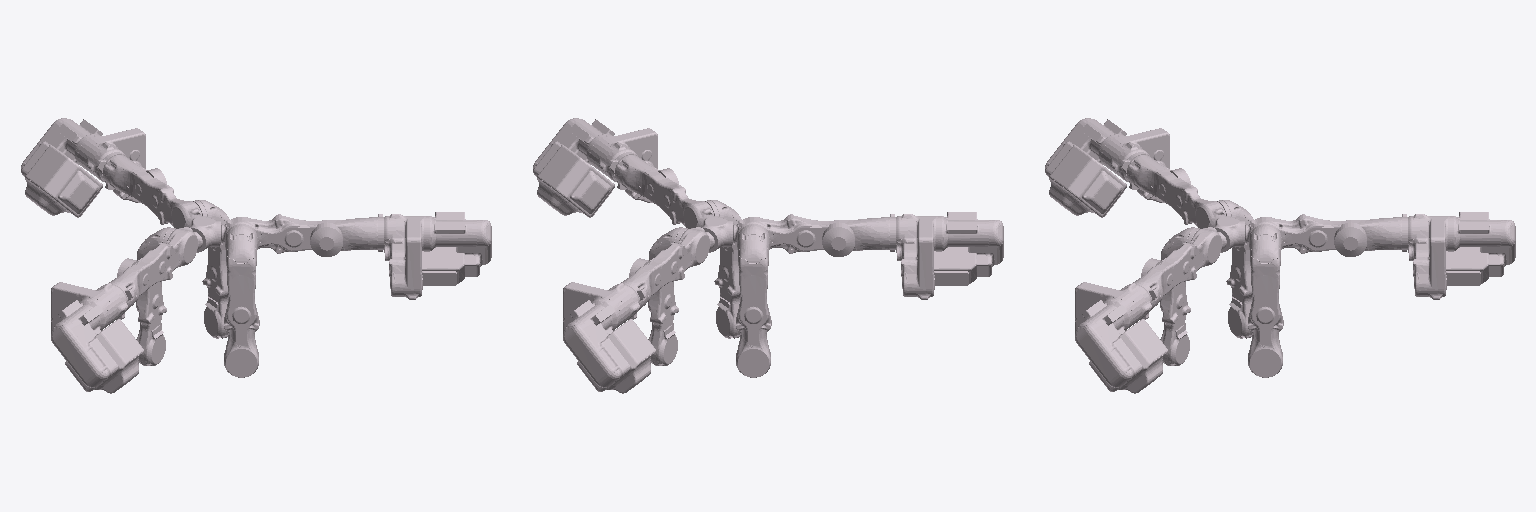
The robot description file, URDF, robot "trifingerpro":
<?xml version="1.0" encoding="utf-8"?>
<!-- =================================================================================== -->
<!-- |    This document was autogenerated by xacro from robot_properties_fingers/xacro/pro/trifingerpro.urdf.xacro | -->
<!-- |    EDITING THIS FILE BY HAND IS NOT RECOMMENDED                                 | -->
<!-- =================================================================================== -->
<robot name="trifingerpro">
  <!--
    Frames are defined such that they all align with the base frame when all
    joints are at position zero.

    In zero-configuration the origins of all joints are in one line.

    In zero-configuration the origin of the base link is exactly above the
    finger tip which should make it easy to place the finger in the world.
    -->
  <material name="finger_0_material">
    <color rgba="0.6 0.0 0.0 1.0"/>
  </material>
  <material name="finger_120_material">
    <color rgba="0.0 0.6 0.0 1.0"/>
  </material>
  <material name="finger_240_material">
    <color rgba="0.0 0.0 0.6 1.0"/>
  </material>
  <material name="real_finger_material">
    <color rgba="0.83 0.79 0.82 1.0"/>
  </material>
  <!-- Define the global base_link and place all other objects relative to it. -->
  <link name="base_link">
    <inertial>
      <origin rpy="0 0 0" xyz="0 0 0"/>
      <mass value="1"/>
      <inertia ixx="4.16666666667e-06" ixy="0" ixz="0" iyy="4.16666666667e-06" iyz="0" izz="4.16666666667e-06"/>
    </inertial>
  </link>
  <!-- Define the upper holder -->
  <link name="upper_holder_link">
    <visual>
      <origin rpy="0 0 0" xyz="0 0 0"/>
      <geometry>
        <mesh filename="package://robot_properties_fingers/meshes/stl/pro/SIM__BL-Finger_Center.stl" scale="1.0 1.0 1.0"/>
      </geometry>
      <material name="real_finger_material"/>
    </visual>
    <inertial>
      <origin rpy="0 0 0" xyz="0 0 0"/>
      <mass value="1"/>
      <inertia ixx="4.16666666667e-06" ixy="0" ixz="0" iyy="4.16666666667e-06" iyz="0" izz="4.16666666667e-06"/>
    </inertial>
  </link>
  <joint name="base_to_upper_holder_joint" type="fixed">
    <parent link="base_link"/>
    <child link="upper_holder_link"/>
    <origin xyz="0 0 0.29"/>
  </joint>
  <!--
        Fixed links for the finger base (parts where the upper link is mounted).
        Note: Link Frames already coincide with the joint location
        -->
  <link name="finger_base_link_0">
    <visual>
      <origin rpy="0 0 0" xyz="0 0.23295 0"/>
      <geometry>
        <mesh filename="package://robot_properties_fingers/meshes/stl/pro/SIM__BL-Finger_Base.stl" scale="1.0 1.0 1.0"/>
      </geometry>
      <material name="real_finger_material"/>
    </visual>
    <collision>
      <origin rpy="0 0 0" xyz="0 0.23295 0"/>
      <geometry>
        <mesh filename="package://robot_properties_fingers/meshes/stl/pro/SIM__BL-Finger_Base.stl" scale="1.0 1.0 1.0"/>
      </geometry>
    </collision>
    <inertial>
      <origin rpy="0 0 0" xyz="0 0 0"/>
      <mass value="1"/>
      <inertia ixx="0.000416666666667" ixy="0" ixz="0" iyy="0.000416666666667" iyz="0" izz="0.000416666666667"/>
    </inertial>
  </link>
  <link name="finger_upper_link_0">
    <visual>
      <origin rpy="0 0 0" xyz="0 0.0235 0"/>
      <geometry>
        <mesh filename="package://robot_properties_fingers/meshes/stl/pro/SIM__BL-Finger_Proximal.stl" scale="1.0 1.0 1.0"/>
      </geometry>
      <material name="real_finger_material"/>
    </visual>
    <collision>
      <origin rpy="0 0 0" xyz="0 0.0235 0"/>
      <geometry>
        <mesh filename="package://robot_properties_fingers/meshes/stl/pro/SIM__BL-Finger_Proximal.stl" scale="1.0 1.0 1.0"/>
      </geometry>
    </collision>
    <inertial>
      <origin rpy="0 0 0" xyz="0 0.06 0"/>
      <mass value="0.26"/>
      <inertia ixx="0.000459333333333" ixy="0" ixz="0" iyy="6.93333333333e-05" iyz="0" izz="0.000459333333333"/>
    </inertial>
  </link>
  <link name="finger_middle_link_0">
    <visual>
      <origin rpy="1.57079632679 0 0" xyz="0 0 0"/>
      <geometry>
        <mesh filename="package://robot_properties_fingers/meshes/stl/pro/SIM__BL-Finger_Intermediate.stl" scale="1.0 1.0 1.0"/>
      </geometry>
      <material name="real_finger_material"/>
    </visual>
    <collision>
      <origin rpy="1.57079632679 0 0" xyz="0 0 0"/>
      <geometry>
        <mesh filename="package://robot_properties_fingers/meshes/stl/pro/SIM__BL-Finger_Intermediate.stl" scale="1.0 1.0 1.0"/>
      </geometry>
    </collision>
    <inertial>
      <origin rpy="0 0 0" xyz="0.028 0 -0.08"/>
      <mass value="0.25"/>
      <inertia ixx="0.000441666666667" ixy="0" ixz="0" iyy="0.000441666666667" iyz="0" izz="6.66666666667e-05"/>
    </inertial>
  </link>
  <link name="finger_lower_link_0">
    <visual>
      <origin rpy="1.57079632679 0 0" xyz="0 0 0"/>
      <geometry>
        <mesh filename="package://robot_properties_fingers/meshes/stl/pro/SIM__BL-Finger_Tip_without_tip.stl" scale="1.0 1.0 1.0"/>
      </geometry>
      <material name="real_finger_material"/>
    </visual>
    <collision>
      <origin rpy="1.57079632679 0 0" xyz="0 0 0"/>
      <geometry>
        <mesh filename="package://robot_properties_fingers/meshes/stl/pro/SIM__BL-Finger_Tip_without_tip.stl" scale="1.0 1.0 1.0"/>
      </geometry>
    </collision>
    <inertial>
      <origin rpy="0 0 0" xyz="0 0 -0.06"/>
      <mass value="0.021"/>
      <inertia ixx="3.5e-05" ixy="0" ixz="0" iyy="3.5e-05" iyz="0" izz="1.4e-06"/>
    </inertial>
  </link>
  <!-- fixed link for finger tip -->
  <link name="finger_tip_link_0">
    <visual>
      <origin rpy="1.57079632679 0 0" xyz="-0.0185 0 0.1626"/>
      <geometry>
        <mesh filename="package://robot_properties_fingers/meshes/stl/pro/SIM__BL-Finger_Tip_actual_tip.stl" scale="1.0 1.0 1.0"/>
      </geometry>
      <material name="real_finger_material"/>
    </visual>
    <collision>
      <origin rpy="1.57079632679 0 0" xyz="-0.0185 0 0.1626"/>
      <geometry>
        <mesh filename="package://robot_properties_fingers/meshes/stl/pro/SIM__BL-Finger_Tip_actual_tip.stl" scale="1.0 1.0 1.0"/>
      </geometry>
    </collision>
    <inertial>
      <origin rpy="0 0 0" xyz="0 0 0"/>
      <mass value="0.031"/>
      <inertia ixx="5.16666666667e-07" ixy="0" ixz="0" iyy="5.16666666667e-07" iyz="0" izz="5.16666666667e-07"/>
    </inertial>
  </link>
  <joint name="finger_lower_to_tip_joint_0" type="fixed">
    <parent link="finger_lower_link_0"/>
    <child link="finger_tip_link_0"/>
    <origin xyz="0.0185 0 -0.1626"/>
  </joint>
  <!-- kinematics -->
  <!-- NOTE: Joint limits are set according to soft limits in the
             configuration of the real robot (i.e. not according to physical
             limits). -->
  <joint name="finger_base_to_upper_joint_0" type="revolute">
    <parent link="finger_base_link_0"/>
    <child link="finger_upper_link_0"/>
    <limit effort="1000" lower="-0.9" upper="1.4" velocity="1000"/>
    <axis xyz="0 1 0"/>
    <origin rpy="0 0 0" xyz="0 0 0"/>
  </joint>
  <joint name="finger_upper_to_middle_joint_0" type="revolute">
    <parent link="finger_upper_link_0"/>
    <child link="finger_middle_link_0"/>
    <limit effort="1000" lower="-1.57" upper="1.57" velocity="1000"/>
    <axis xyz="1 0 0"/>
    <origin rpy="0 0 0" xyz="0.01685 0.0505 0"/>
  </joint>
  <joint name="finger_middle_to_lower_joint_0" type="revolute">
    <parent link="finger_middle_link_0"/>
    <child link="finger_lower_link_0"/>
    <limit effort="1000" lower="-2.7" upper="0.0" velocity="1000"/>
    <axis xyz="1 0 0"/>
    <origin rpy="0 0 0" xyz="0.04922 0 -0.16"/>
  </joint>
  <!--
        Fixed links for the finger base (parts where the upper link is mounted).
        Note: Link Frames already coincide with the joint location
        -->
  <link name="finger_base_link_120">
    <visual>
      <origin rpy="0 0 0" xyz="0 0.23295 0"/>
      <geometry>
        <mesh filename="package://robot_properties_fingers/meshes/stl/pro/SIM__BL-Finger_Base.stl" scale="1.0 1.0 1.0"/>
      </geometry>
      <material name="real_finger_material"/>
    </visual>
    <collision>
      <origin rpy="0 0 0" xyz="0 0.23295 0"/>
      <geometry>
        <mesh filename="package://robot_properties_fingers/meshes/stl/pro/SIM__BL-Finger_Base.stl" scale="1.0 1.0 1.0"/>
      </geometry>
    </collision>
    <inertial>
      <origin rpy="0 0 0" xyz="0 0 0"/>
      <mass value="1"/>
      <inertia ixx="0.000416666666667" ixy="0" ixz="0" iyy="0.000416666666667" iyz="0" izz="0.000416666666667"/>
    </inertial>
  </link>
  <link name="finger_upper_link_120">
    <visual>
      <origin rpy="0 0 0" xyz="0 0.0235 0"/>
      <geometry>
        <mesh filename="package://robot_properties_fingers/meshes/stl/pro/SIM__BL-Finger_Proximal.stl" scale="1.0 1.0 1.0"/>
      </geometry>
      <material name="real_finger_material"/>
    </visual>
    <collision>
      <origin rpy="0 0 0" xyz="0 0.0235 0"/>
      <geometry>
        <mesh filename="package://robot_properties_fingers/meshes/stl/pro/SIM__BL-Finger_Proximal.stl" scale="1.0 1.0 1.0"/>
      </geometry>
    </collision>
    <inertial>
      <origin rpy="0 0 0" xyz="0 0.06 0"/>
      <mass value="0.26"/>
      <inertia ixx="0.000459333333333" ixy="0" ixz="0" iyy="6.93333333333e-05" iyz="0" izz="0.000459333333333"/>
    </inertial>
  </link>
  <link name="finger_middle_link_120">
    <visual>
      <origin rpy="1.57079632679 0 0" xyz="0 0 0"/>
      <geometry>
        <mesh filename="package://robot_properties_fingers/meshes/stl/pro/SIM__BL-Finger_Intermediate.stl" scale="1.0 1.0 1.0"/>
      </geometry>
      <material name="real_finger_material"/>
    </visual>
    <collision>
      <origin rpy="1.57079632679 0 0" xyz="0 0 0"/>
      <geometry>
        <mesh filename="package://robot_properties_fingers/meshes/stl/pro/SIM__BL-Finger_Intermediate.stl" scale="1.0 1.0 1.0"/>
      </geometry>
    </collision>
    <inertial>
      <origin rpy="0 0 0" xyz="0.028 0 -0.08"/>
      <mass value="0.25"/>
      <inertia ixx="0.000441666666667" ixy="0" ixz="0" iyy="0.000441666666667" iyz="0" izz="6.66666666667e-05"/>
    </inertial>
  </link>
  <link name="finger_lower_link_120">
    <visual>
      <origin rpy="1.57079632679 0 0" xyz="0 0 0"/>
      <geometry>
        <mesh filename="package://robot_properties_fingers/meshes/stl/pro/SIM__BL-Finger_Tip_without_tip.stl" scale="1.0 1.0 1.0"/>
      </geometry>
      <material name="real_finger_material"/>
    </visual>
    <collision>
      <origin rpy="1.57079632679 0 0" xyz="0 0 0"/>
      <geometry>
        <mesh filename="package://robot_properties_fingers/meshes/stl/pro/SIM__BL-Finger_Tip_without_tip.stl" scale="1.0 1.0 1.0"/>
      </geometry>
    </collision>
    <inertial>
      <origin rpy="0 0 0" xyz="0 0 -0.06"/>
      <mass value="0.021"/>
      <inertia ixx="3.5e-05" ixy="0" ixz="0" iyy="3.5e-05" iyz="0" izz="1.4e-06"/>
    </inertial>
  </link>
  <!-- fixed link for finger tip -->
  <link name="finger_tip_link_120">
    <visual>
      <origin rpy="1.57079632679 0 0" xyz="-0.0185 0 0.1626"/>
      <geometry>
        <mesh filename="package://robot_properties_fingers/meshes/stl/pro/SIM__BL-Finger_Tip_actual_tip.stl" scale="1.0 1.0 1.0"/>
      </geometry>
      <material name="real_finger_material"/>
    </visual>
    <collision>
      <origin rpy="1.57079632679 0 0" xyz="-0.0185 0 0.1626"/>
      <geometry>
        <mesh filename="package://robot_properties_fingers/meshes/stl/pro/SIM__BL-Finger_Tip_actual_tip.stl" scale="1.0 1.0 1.0"/>
      </geometry>
    </collision>
    <inertial>
      <origin rpy="0 0 0" xyz="0 0 0"/>
      <mass value="0.031"/>
      <inertia ixx="5.16666666667e-07" ixy="0" ixz="0" iyy="5.16666666667e-07" iyz="0" izz="5.16666666667e-07"/>
    </inertial>
  </link>
  <joint name="finger_lower_to_tip_joint_120" type="fixed">
    <parent link="finger_lower_link_120"/>
    <child link="finger_tip_link_120"/>
    <origin xyz="0.0185 0 -0.1626"/>
  </joint>
  <!-- kinematics -->
  <!-- NOTE: Joint limits are set according to soft limits in the
             configuration of the real robot (i.e. not according to physical
             limits). -->
  <joint name="finger_base_to_upper_joint_120" type="revolute">
    <parent link="finger_base_link_120"/>
    <child link="finger_upper_link_120"/>
    <limit effort="1000" lower="-0.9" upper="1.4" velocity="1000"/>
    <axis xyz="0 1 0"/>
    <origin rpy="0 0 0" xyz="0 0 0"/>
  </joint>
  <joint name="finger_upper_to_middle_joint_120" type="revolute">
    <parent link="finger_upper_link_120"/>
    <child link="finger_middle_link_120"/>
    <limit effort="1000" lower="-1.57" upper="1.57" velocity="1000"/>
    <axis xyz="1 0 0"/>
    <origin rpy="0 0 0" xyz="0.01685 0.0505 0"/>
  </joint>
  <joint name="finger_middle_to_lower_joint_120" type="revolute">
    <parent link="finger_middle_link_120"/>
    <child link="finger_lower_link_120"/>
    <limit effort="1000" lower="-2.7" upper="0.0" velocity="1000"/>
    <axis xyz="1 0 0"/>
    <origin rpy="0 0 0" xyz="0.04922 0 -0.16"/>
  </joint>
  <!--
        Fixed links for the finger base (parts where the upper link is mounted).
        Note: Link Frames already coincide with the joint location
        -->
  <link name="finger_base_link_240">
    <visual>
      <origin rpy="0 0 0" xyz="0 0.23295 0"/>
      <geometry>
        <mesh filename="package://robot_properties_fingers/meshes/stl/pro/SIM__BL-Finger_Base.stl" scale="1.0 1.0 1.0"/>
      </geometry>
      <material name="real_finger_material"/>
    </visual>
    <collision>
      <origin rpy="0 0 0" xyz="0 0.23295 0"/>
      <geometry>
        <mesh filename="package://robot_properties_fingers/meshes/stl/pro/SIM__BL-Finger_Base.stl" scale="1.0 1.0 1.0"/>
      </geometry>
    </collision>
    <inertial>
      <origin rpy="0 0 0" xyz="0 0 0"/>
      <mass value="1"/>
      <inertia ixx="0.000416666666667" ixy="0" ixz="0" iyy="0.000416666666667" iyz="0" izz="0.000416666666667"/>
    </inertial>
  </link>
  <link name="finger_upper_link_240">
    <visual>
      <origin rpy="0 0 0" xyz="0 0.0235 0"/>
      <geometry>
        <mesh filename="package://robot_properties_fingers/meshes/stl/pro/SIM__BL-Finger_Proximal.stl" scale="1.0 1.0 1.0"/>
      </geometry>
      <material name="real_finger_material"/>
    </visual>
    <collision>
      <origin rpy="0 0 0" xyz="0 0.0235 0"/>
      <geometry>
        <mesh filename="package://robot_properties_fingers/meshes/stl/pro/SIM__BL-Finger_Proximal.stl" scale="1.0 1.0 1.0"/>
      </geometry>
    </collision>
    <inertial>
      <origin rpy="0 0 0" xyz="0 0.06 0"/>
      <mass value="0.26"/>
      <inertia ixx="0.000459333333333" ixy="0" ixz="0" iyy="6.93333333333e-05" iyz="0" izz="0.000459333333333"/>
    </inertial>
  </link>
  <link name="finger_middle_link_240">
    <visual>
      <origin rpy="1.57079632679 0 0" xyz="0 0 0"/>
      <geometry>
        <mesh filename="package://robot_properties_fingers/meshes/stl/pro/SIM__BL-Finger_Intermediate.stl" scale="1.0 1.0 1.0"/>
      </geometry>
      <material name="real_finger_material"/>
    </visual>
    <collision>
      <origin rpy="1.57079632679 0 0" xyz="0 0 0"/>
      <geometry>
        <mesh filename="package://robot_properties_fingers/meshes/stl/pro/SIM__BL-Finger_Intermediate.stl" scale="1.0 1.0 1.0"/>
      </geometry>
    </collision>
    <inertial>
      <origin rpy="0 0 0" xyz="0.028 0 -0.08"/>
      <mass value="0.25"/>
      <inertia ixx="0.000441666666667" ixy="0" ixz="0" iyy="0.000441666666667" iyz="0" izz="6.66666666667e-05"/>
    </inertial>
  </link>
  <link name="finger_lower_link_240">
    <visual>
      <origin rpy="1.57079632679 0 0" xyz="0 0 0"/>
      <geometry>
        <mesh filename="package://robot_properties_fingers/meshes/stl/pro/SIM__BL-Finger_Tip_without_tip.stl" scale="1.0 1.0 1.0"/>
      </geometry>
      <material name="real_finger_material"/>
    </visual>
    <collision>
      <origin rpy="1.57079632679 0 0" xyz="0 0 0"/>
      <geometry>
        <mesh filename="package://robot_properties_fingers/meshes/stl/pro/SIM__BL-Finger_Tip_without_tip.stl" scale="1.0 1.0 1.0"/>
      </geometry>
    </collision>
    <inertial>
      <origin rpy="0 0 0" xyz="0 0 -0.06"/>
      <mass value="0.021"/>
      <inertia ixx="3.5e-05" ixy="0" ixz="0" iyy="3.5e-05" iyz="0" izz="1.4e-06"/>
    </inertial>
  </link>
  <!-- fixed link for finger tip -->
  <link name="finger_tip_link_240">
    <visual>
      <origin rpy="1.57079632679 0 0" xyz="-0.0185 0 0.1626"/>
      <geometry>
        <mesh filename="package://robot_properties_fingers/meshes/stl/pro/SIM__BL-Finger_Tip_actual_tip.stl" scale="1.0 1.0 1.0"/>
      </geometry>
      <material name="real_finger_material"/>
    </visual>
    <collision>
      <origin rpy="1.57079632679 0 0" xyz="-0.0185 0 0.1626"/>
      <geometry>
        <mesh filename="package://robot_properties_fingers/meshes/stl/pro/SIM__BL-Finger_Tip_actual_tip.stl" scale="1.0 1.0 1.0"/>
      </geometry>
    </collision>
    <inertial>
      <origin rpy="0 0 0" xyz="0 0 0"/>
      <mass value="0.031"/>
      <inertia ixx="5.16666666667e-07" ixy="0" ixz="0" iyy="5.16666666667e-07" iyz="0" izz="5.16666666667e-07"/>
    </inertial>
  </link>
  <joint name="finger_lower_to_tip_joint_240" type="fixed">
    <parent link="finger_lower_link_240"/>
    <child link="finger_tip_link_240"/>
    <origin xyz="0.0185 0 -0.1626"/>
  </joint>
  <!-- kinematics -->
  <!-- NOTE: Joint limits are set according to soft limits in the
             configuration of the real robot (i.e. not according to physical
             limits). -->
  <joint name="finger_base_to_upper_joint_240" type="revolute">
    <parent link="finger_base_link_240"/>
    <child link="finger_upper_link_240"/>
    <limit effort="1000" lower="-0.9" upper="1.4" velocity="1000"/>
    <axis xyz="0 1 0"/>
    <origin rpy="0 0 0" xyz="0 0 0"/>
  </joint>
  <joint name="finger_upper_to_middle_joint_240" type="revolute">
    <parent link="finger_upper_link_240"/>
    <child link="finger_middle_link_240"/>
    <limit effort="1000" lower="-1.57" upper="1.57" velocity="1000"/>
    <axis xyz="1 0 0"/>
    <origin rpy="0 0 0" xyz="0.01685 0.0505 0"/>
  </joint>
  <joint name="finger_middle_to_lower_joint_240" type="revolute">
    <parent link="finger_middle_link_240"/>
    <child link="finger_lower_link_240"/>
    <limit effort="1000" lower="-2.7" upper="0.0" velocity="1000"/>
    <axis xyz="1 0 0"/>
    <origin rpy="0 0 0" xyz="0.04922 0 -0.16"/>
  </joint>
  <joint name="holder_to_finger_0" type="fixed">
    <parent link="upper_holder_link"/>
    <child link="finger_base_link_0"/>
    <origin rpy="0 0 0.0" xyz="0 0 0"/>
  </joint>
  <joint name="holder_to_finger_120" type="fixed">
    <parent link="upper_holder_link"/>
    <child link="finger_base_link_120"/>
    <origin rpy="0 0 -2.09439510239" xyz="0 0 0"/>
  </joint>
  <joint name="holder_to_finger_240" type="fixed">
    <parent link="upper_holder_link"/>
    <child link="finger_base_link_240"/>
    <origin rpy="0 0 -4.18879020479" xyz="0 0 0"/>
  </joint>
</robot>

--- Render facts (derived) ---
3 views of the same robot in one strip: view 1: azimuth 30°, elevation 25°; view 2: azimuth 150°, elevation 25°; view 3: azimuth 270°, elevation 25° (orthographic).
Robot: trifingerpro — 17 links, 16 joints (9 revolute, 7 fixed); root link base_link; default pose: every joint at zero.
Links seen in each view (by area): view 1: finger_base_link_240, finger_base_link_120, finger_base_link_0, finger_middle_link_120, finger_upper_link_120, finger_upper_link_0, finger_upper_link_240, finger_middle_link_240, finger_middle_link_0, upper_holder_link; view 2: finger_base_link_0, finger_base_link_240, finger_base_link_120, finger_middle_link_240, finger_upper_link_240, finger_upper_link_120, finger_upper_link_0, finger_middle_link_0, finger_middle_link_120, upper_holder_link; view 3: finger_base_link_120, finger_base_link_0, finger_base_link_240, finger_middle_link_0, finger_upper_link_0, finger_upper_link_240, finger_upper_link_120, finger_middle_link_120, finger_middle_link_240, upper_holder_link.
Boxes of the visible links, box(x1,y1,x2,y2) form: finger_base_link_240: box(51, 282, 143, 393); finger_base_link_120: box(378, 212, 491, 299); finger_base_link_0: box(21, 118, 145, 217); finger_middle_link_120: box(220, 224, 259, 377); finger_upper_link_120: box(221, 214, 377, 256); finger_upper_link_0: box(102, 155, 201, 228); finger_upper_link_240: box(109, 227, 202, 307); finger_middle_link_240: box(136, 227, 177, 365); finger_middle_link_0: box(193, 200, 229, 338); upper_holder_link: box(184, 215, 220, 252); finger_base_link_0: box(563, 282, 655, 393); finger_base_link_240: box(890, 212, 1003, 299); finger_base_link_120: box(533, 118, 657, 217); finger_middle_link_240: box(732, 224, 771, 377); finger_upper_link_240: box(733, 214, 889, 256); finger_upper_link_120: box(614, 155, 713, 228); finger_upper_link_0: box(621, 227, 714, 307); finger_middle_link_0: box(648, 227, 689, 365); finger_middle_link_120: box(705, 200, 741, 338); upper_holder_link: box(696, 215, 732, 252); finger_base_link_120: box(1075, 282, 1167, 393); finger_base_link_0: box(1402, 212, 1515, 299); finger_base_link_240: box(1045, 118, 1169, 217); finger_middle_link_0: box(1244, 224, 1283, 377); finger_upper_link_0: box(1245, 214, 1401, 256); finger_upper_link_240: box(1126, 155, 1225, 228); finger_upper_link_120: box(1133, 227, 1226, 307); finger_middle_link_120: box(1160, 227, 1201, 365); finger_middle_link_240: box(1217, 200, 1253, 338); upper_holder_link: box(1208, 215, 1244, 252).
Bounding box of the posed robot: 0.6989 × 0.6287 × 0.2128 m (x, y, z).
Meshes: 6 distinct files referenced, 10 mesh visuals loaded (4 binary STL); not drawn: 6 (reference not matched to a file when rendering).